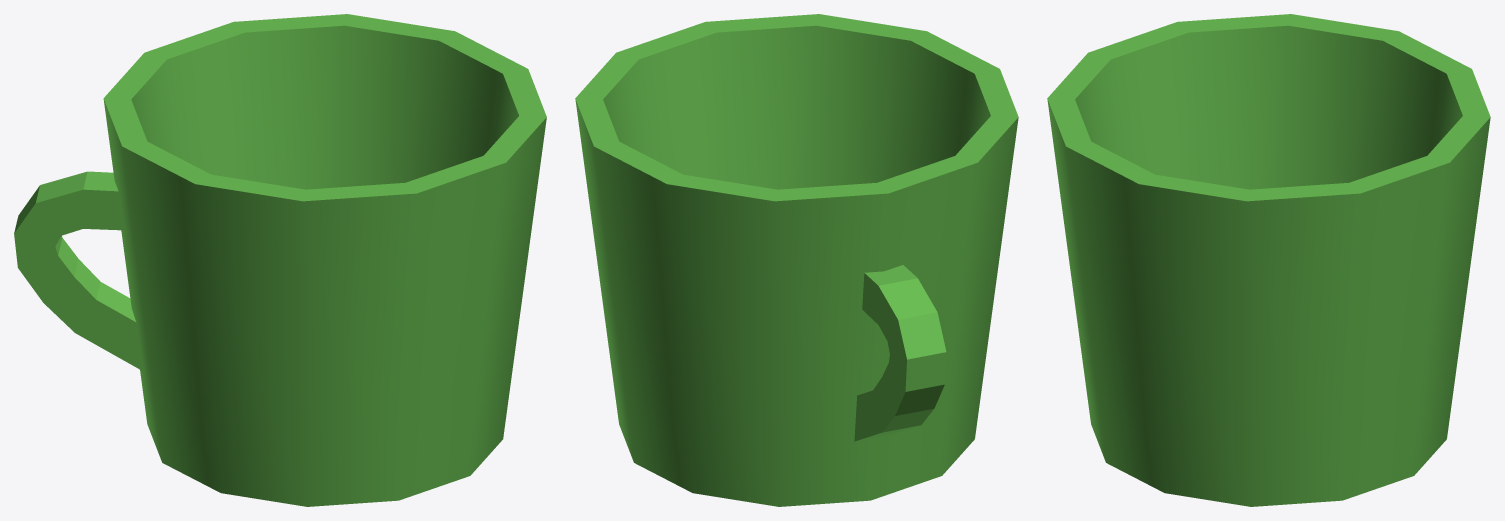
The model's file is Cup.fbx.
The picture shows the model from 3 angles, left to right: view 1: azimuth 30°, elevation 25°; view 2: azimuth 150°, elevation 25°; view 3: azimuth 270°, elevation 25°; orthographic projection.
Visible parts, largest first — view 1: Cup.001; view 2: Cup.001; view 3: Cup.001.
Boxes of the visible parts, bbox=[...] form: Cup.001: bbox=[14, 14, 546, 506]; Cup.001: bbox=[575, 14, 1018, 506]; Cup.001: bbox=[1047, 14, 1490, 506].
Bounding box in the file's own units: 0.1718 × 0.126 × 0.1562.
